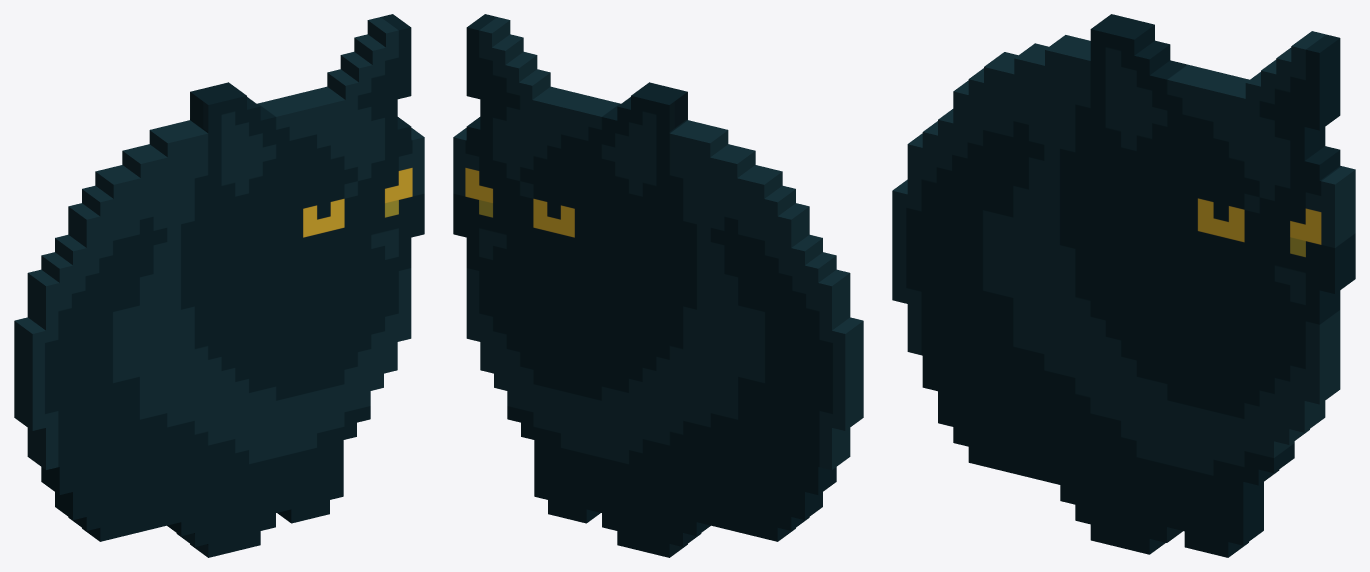
Rendered from cat_pixel_v3.glb.
The picture shows the model from 3 angles, left to right: view 1: azimuth 30°, elevation 25°; view 2: azimuth 150°, elevation 25°; view 3: azimuth 330°, elevation 25°; orthographic projection. The views are drawn at different scales.
Visible parts, largest first — view 1: Plane; view 2: Plane; view 3: Plane.
Boxes of the visible parts, <box> form: Plane: <box>14,14,424,557</box>; Plane: <box>453,14,863,557</box>; Plane: <box>892,14,1355,557</box>.
Size of the model in its own units: 8.64 by 10.13 by 0.6985.
Materials: 1 (1 with a texture image).
